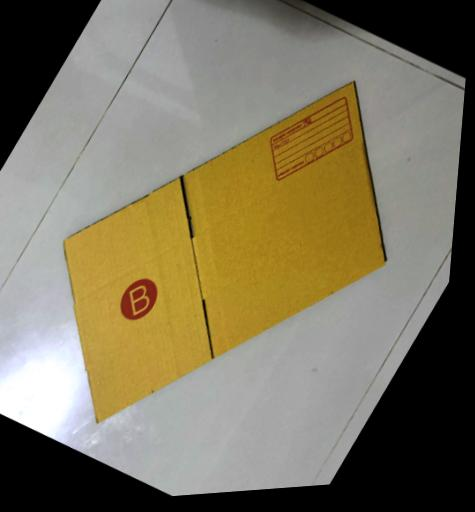box: (0, 0, 473, 511)
class0: (247, 69, 373, 203), (106, 266, 167, 330)
